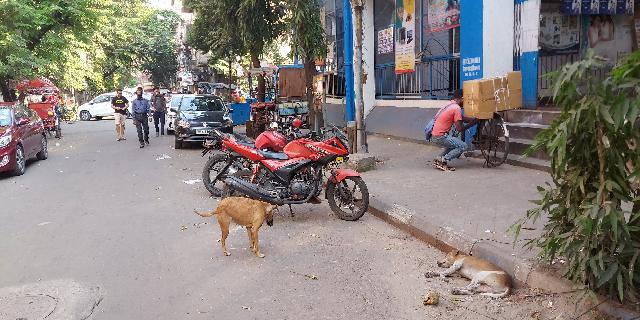Car: (1, 96, 55, 174), (172, 94, 228, 144)
Motorbike: (208, 123, 377, 224)
